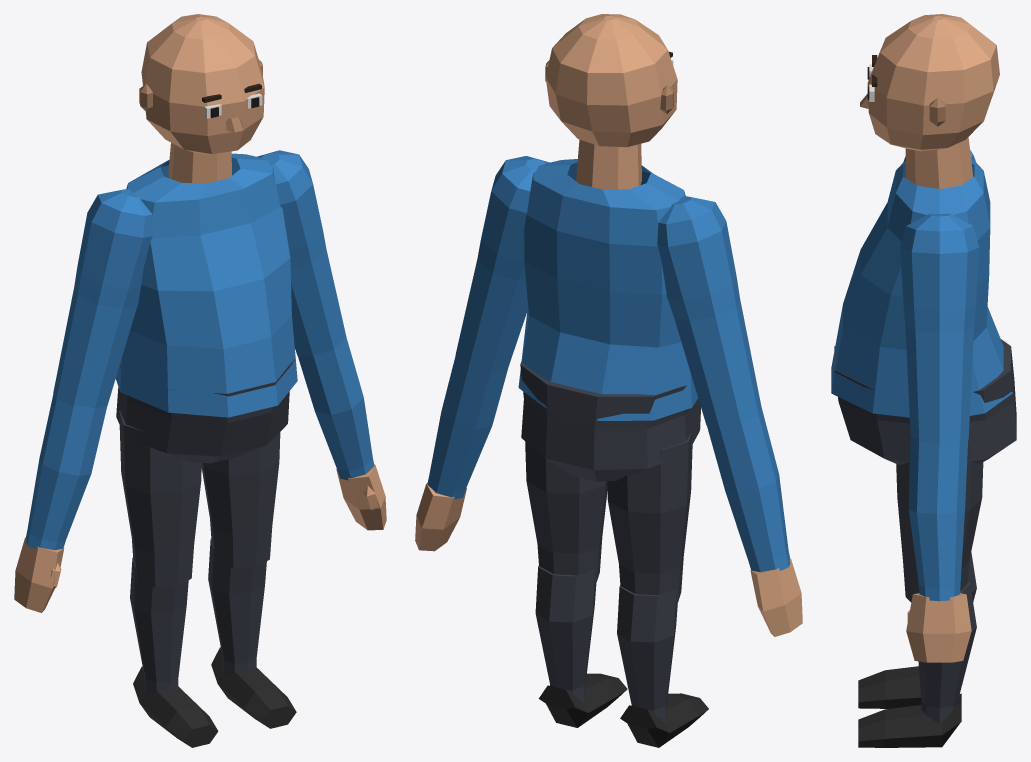
The model's file is petit_x_rond.glb.
The picture shows the model from 3 angles, left to right: view 1: azimuth 30°, elevation 25°; view 2: azimuth 150°, elevation 25°; view 3: azimuth 270°, elevation 25°; orthographic projection. The views are drawn at different scales.
Parts seen in each view (by area): view 1: torse, tete, bras_d, avant_bras_d, jambe_d, bras_g, avant_bras_g, tibia_g, tibia_d, jambe_g, bassin; view 2: torse, tete, bras_d, bassin, avant_bras_d, bras_g, jambe_d, avant_bras_g, tibia_g, tibia_d, jambe_g; view 3: torse, tete, bras_g, avant_bras_g, bassin, tibia_g, jambe_g, tibia_d.
Boxes of the visible parts, x1=… form: torse: x1=115, y1=153, x2=297, y2=417; tete: x1=139, y1=14, x2=264, y2=183; bras_d: x1=53, y1=189, x2=152, y2=407; avant_bras_d: x1=14, y1=394, x2=107, y2=612; jambe_d: x1=119, y1=411, x2=201, y2=587; bras_g: x1=257, y1=150, x2=346, y2=357; avant_bras_g: x1=297, y1=338, x2=386, y2=530; tibia_g: x1=208, y1=539, x2=296, y2=728; tibia_d: x1=130, y1=558, x2=218, y2=747; jambe_g: x1=201, y1=432, x2=280, y2=568; bassin: x1=116, y1=358, x2=295, y2=463; torse: x1=518, y1=159, x2=697, y2=420; tete: x1=545, y1=14, x2=677, y2=189; bras_d: x1=657, y1=196, x2=761, y2=427; bassin: x1=520, y1=360, x2=700, y2=481; avant_bras_d: x1=707, y1=408, x2=802, y2=636; bras_g: x1=455, y1=156, x2=549, y2=372; jambe_d: x1=607, y1=430, x2=692, y2=602; avant_bras_g: x1=415, y1=355, x2=507, y2=551; tibia_g: x1=535, y1=565, x2=627, y2=727; tibia_d: x1=617, y1=585, x2=708, y2=747; jambe_g: x1=525, y1=441, x2=607, y2=582; torse: x1=831, y1=157, x2=1012, y2=417; tete: x1=860, y1=14, x2=999, y2=188; bras_g: x1=900, y1=213, x2=979, y2=445; avant_bras_g: x1=906, y1=437, x2=971, y2=662; bassin: x1=834, y1=339, x2=1016, y2=464; tibia_g: x1=858, y1=581, x2=976, y2=747; jambe_g: x1=896, y1=448, x2=983, y2=602; tibia_d: x1=858, y1=552, x2=976, y2=708.
Bounding box in the file's own units: 0.5908 × 1.08 × 0.2571.
Materials: 1 (1 with a texture image).
